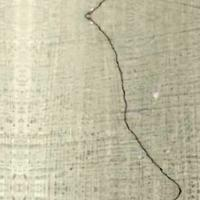crack: (74, 0, 187, 199)
